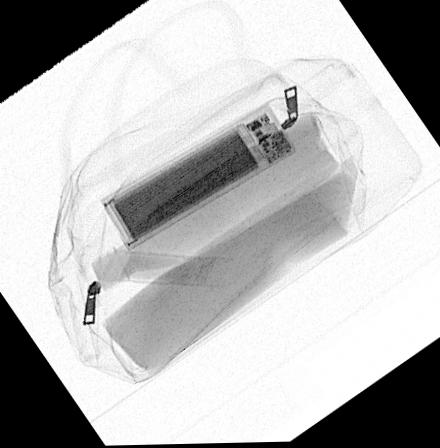Powerbank: (99, 105, 298, 251)
